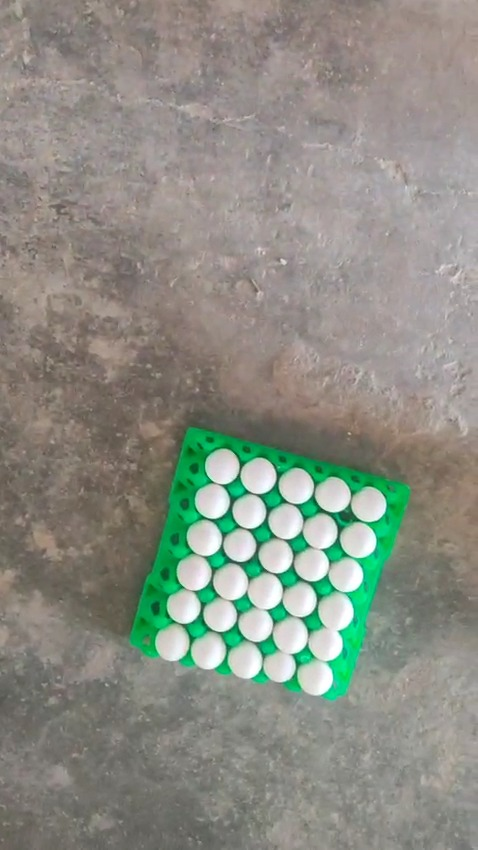egg_tray: (124, 435, 410, 704)
